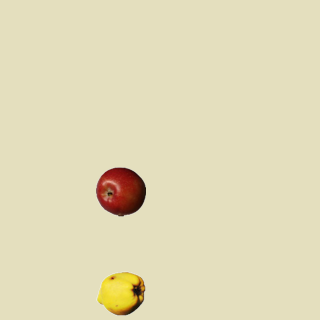Apple Braeburn: (95, 166, 145, 216)
Quince: (95, 268, 145, 318)
